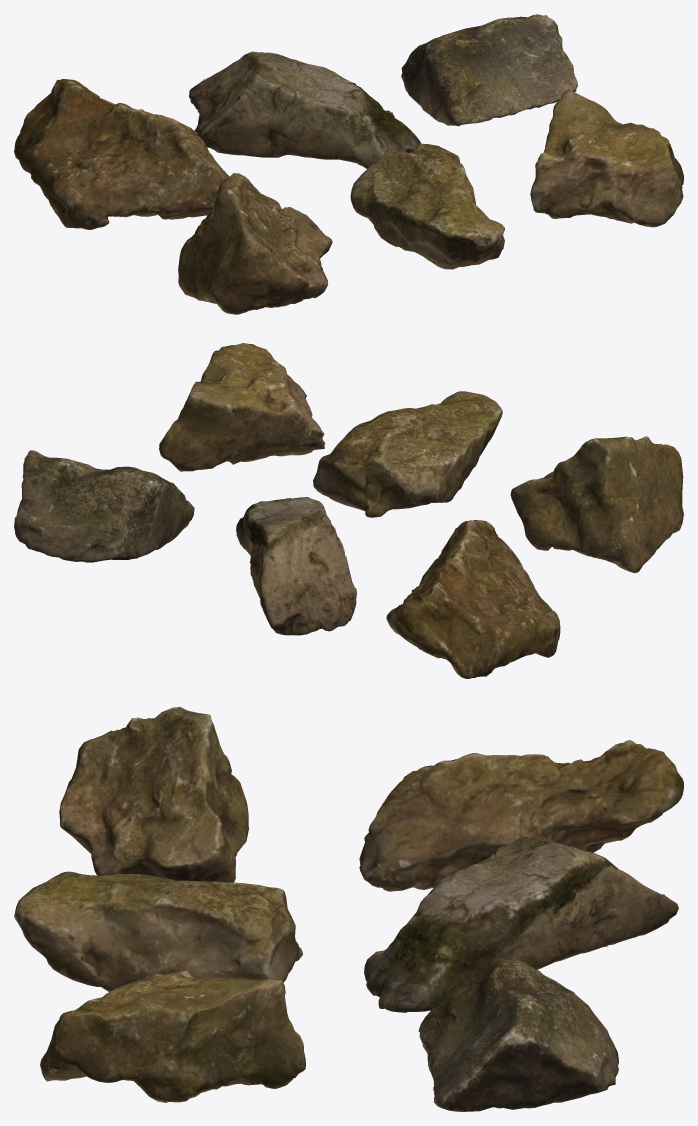
File: rock_moss_set_01.glb
The picture shows the model from 3 angles, top to bottom: view 1: azimuth 30°, elevation 25°; view 2: azimuth 150°, elevation 25°; view 3: azimuth 270°, elevation 25°; orthographic projection. The views are drawn at different scales.
Visible parts, largest first — view 1: rock_moss_set_01_rock01; view 2: rock_moss_set_01_rock01; view 3: rock_moss_set_01_rock01.
Part boxes in pixels (x1=…): rock_moss_set_01_rock01: x1=14, y1=14, x2=683, y2=314; rock_moss_set_01_rock01: x1=14, y1=343, x2=683, y2=678; rock_moss_set_01_rock01: x1=14, y1=707, x2=683, y2=1111.
Size of the model in its own units: 8 by 1.77 by 6.94.
Materials: 1 (1 with a texture image).
